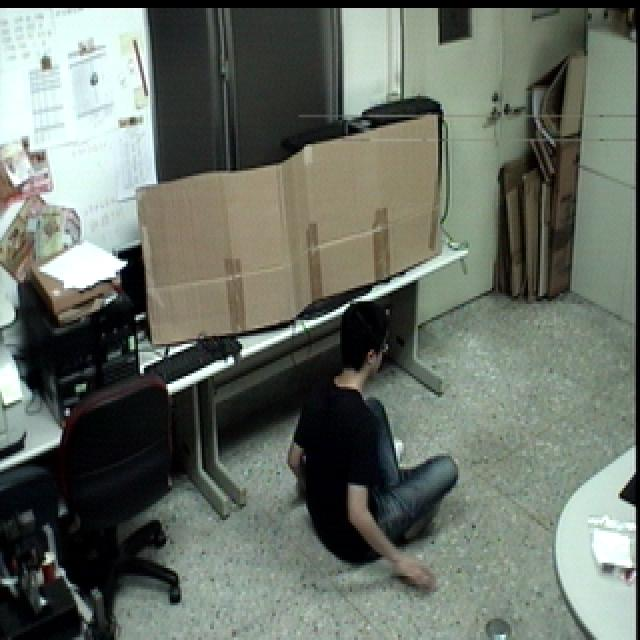sit: (278, 294, 463, 598)
